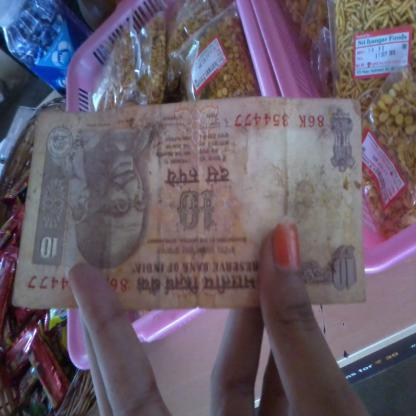Old10Front: (11, 97, 368, 308)
